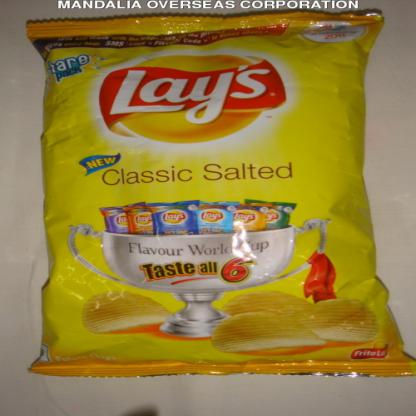plastic: (22, 10, 415, 377)
